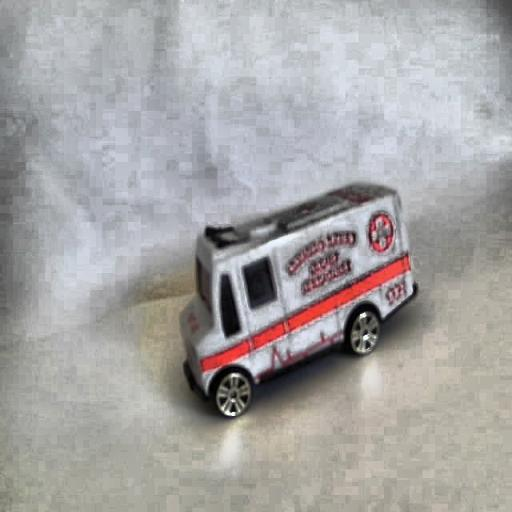ambulance: (179, 179, 417, 418)
